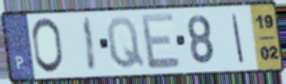8: (186, 14, 217, 66)
E: (139, 11, 183, 72)
I: (81, 15, 99, 73), (230, 12, 246, 65)
O: (30, 17, 65, 76)
Q: (105, 15, 147, 71)
